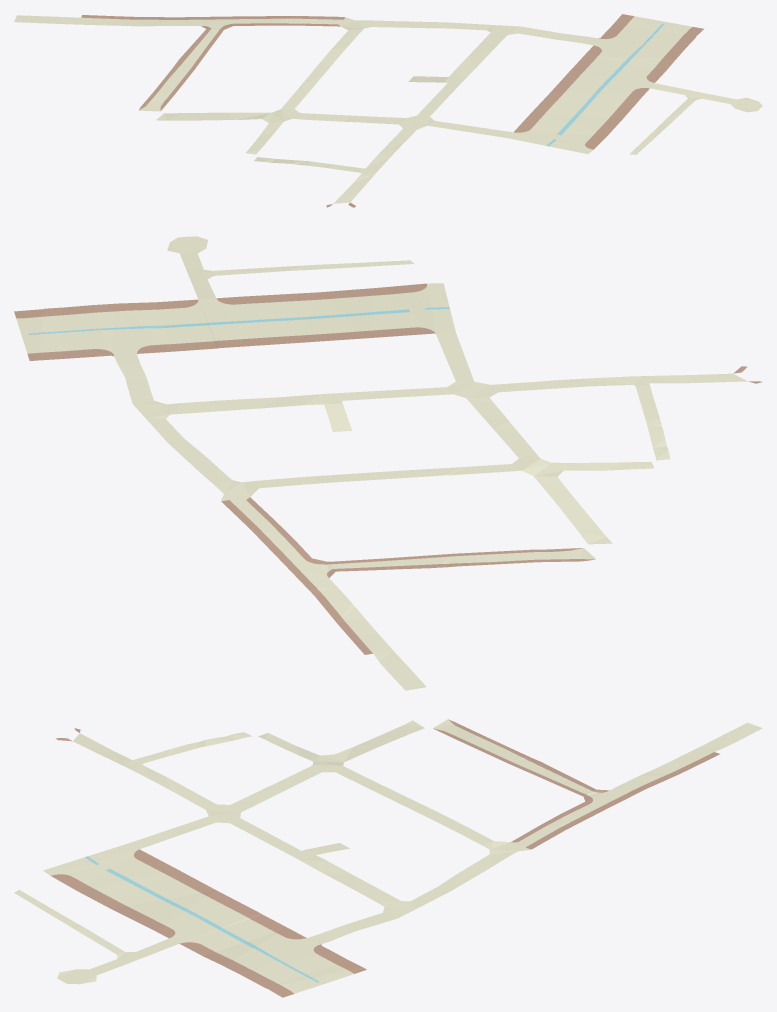
File: data47.glb
3 renders of one model, top to bottom at view 1: azimuth 30°, elevation 25°; view 2: azimuth 150°, elevation 25°; view 3: azimuth 270°, elevation 25°, orthographic. The views are drawn at different scales.
Size of the model in its own units: 259 by 7.46 by 281.
